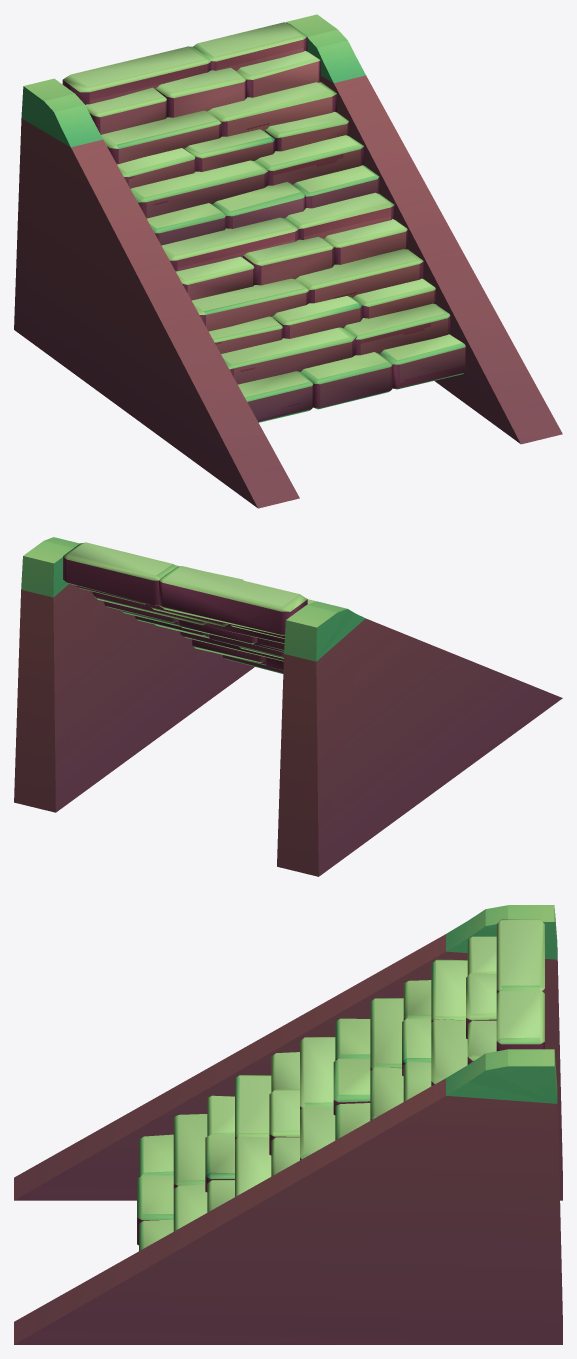
The model's file is Stairs.fbx.
3 views of the same model, one above another, from view 1: azimuth 30°, elevation 25°; view 2: azimuth 150°, elevation 25°; view 3: azimuth 270°, elevation 25° (orthographic). The views are drawn at different scales.
Parts seen in each view (by area): view 1: Stairs; view 2: Stairs; view 3: Stairs.
Part boxes in pixels (x1,y1,x2,y2): Stairs: (14,14,562,508); Stairs: (14,537,562,876); Stairs: (14,905,562,1344).
Bounding box in the file's own units: 3.08 × 2.43 × 4.27.
